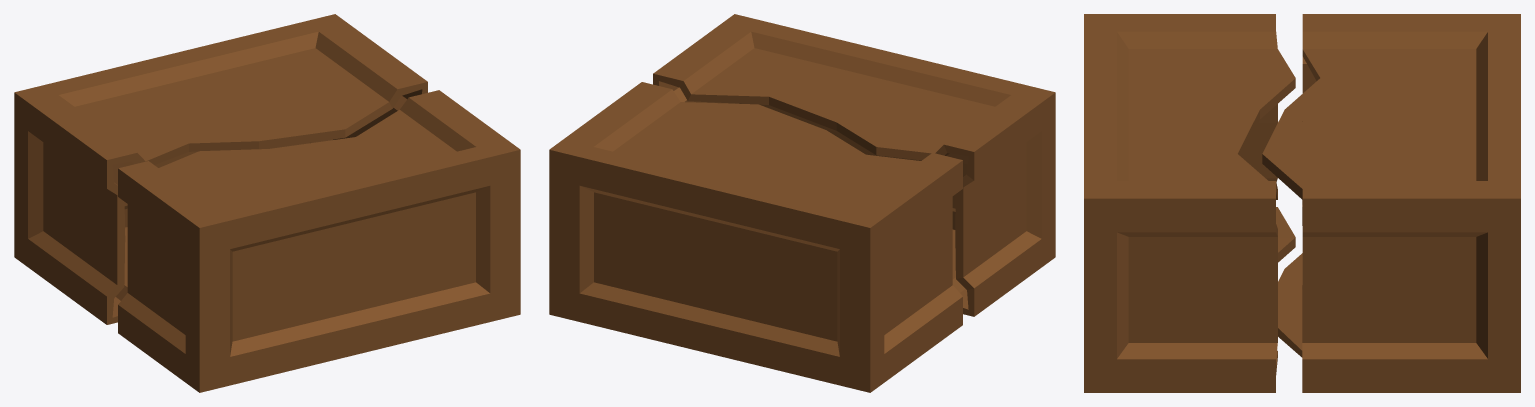
File: Box Broken.fbx
3 views of the same model, side by side, from view 1: azimuth 30°, elevation 25°; view 2: azimuth 150°, elevation 25°; view 3: azimuth 270°, elevation 25° (orthographic). The views are drawn at different scales.
Parts seen in each view (by area): view 1: Cube.014, Cube.001; view 2: Cube.001, Cube.014; view 3: Cube.001, Cube.014.
Boxes of the visible parts, x1,y1,x2,y2 form: Cube.014: (118,90,520,392); Cube.001: (14,14,427,324); Cube.001: (549,82,962,392); Cube.014: (653,14,1055,316); Cube.001: (1262,14,1520,392); Cube.014: (1084,14,1295,392).
Bounding box in the file's own units: 93.1 × 45.7 × 93.1.
